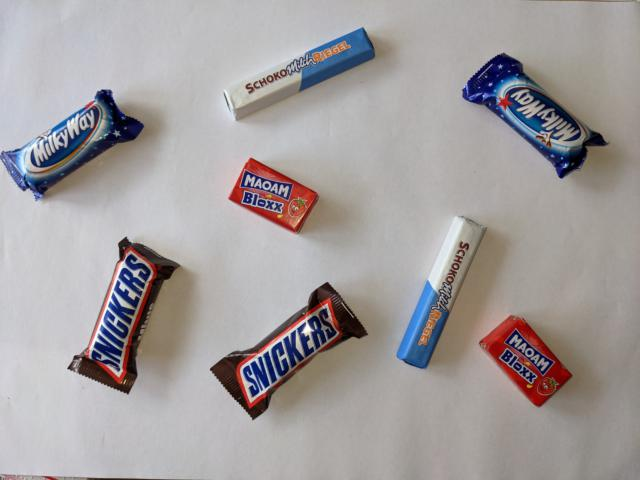MAOAM: (476, 312, 575, 409), (226, 155, 322, 235)
MilkyWay: (459, 50, 612, 180), (1, 86, 146, 204)
Schokoriegel: (393, 212, 489, 373), (220, 26, 377, 124)
Snickers: (208, 280, 371, 422), (65, 235, 183, 396)
